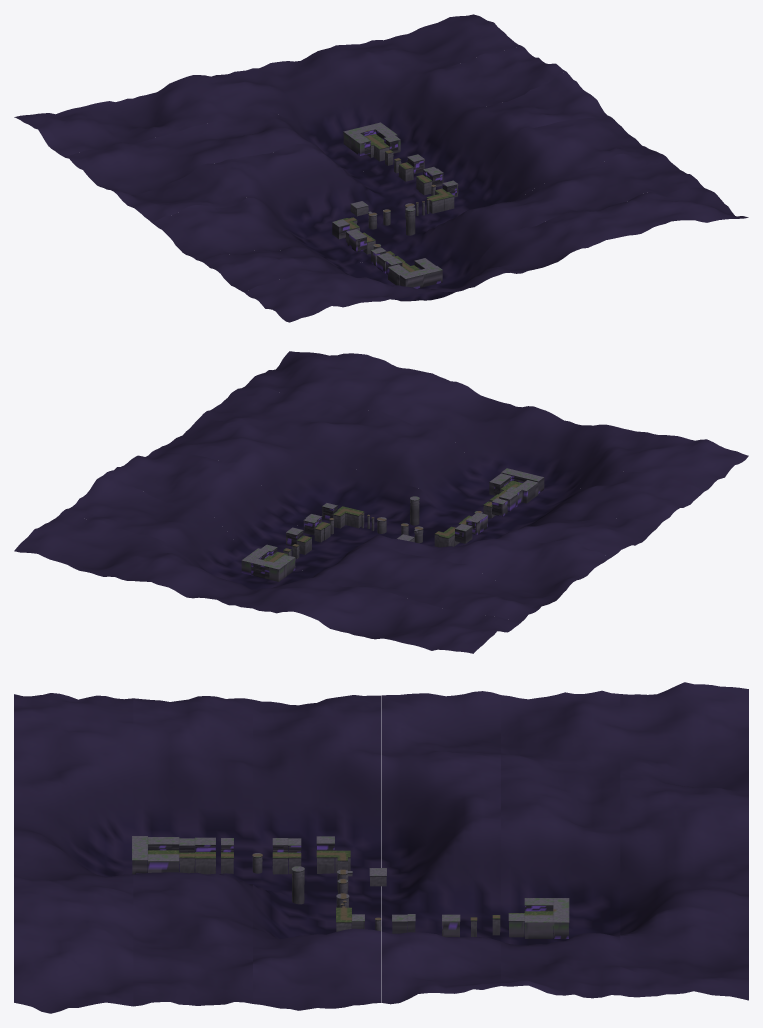
The model's file is ghost_lights_terrain.glb.
3 views of the same model, one above another, from view 1: azimuth 30°, elevation 25°; view 2: azimuth 150°, elevation 25°; view 3: azimuth 270°, elevation 25° (orthographic). The views are drawn at different scales.
Parts seen in each view (by area): view 1: backdrop_5, backdrop_3, backdrop_4, backdrop_2, backdrop_1, backdrop_0, terrain_A, terrain_J, terrain_G, terrain_E, terrain_I, terrain_H (+1 smaller); view 2: backdrop_0, backdrop_1, backdrop_5, backdrop_2, backdrop_3, backdrop_4, terrain_J, terrain_A, terrain_E, terrain_H, terrain_B, terrain_G (+1 smaller); view 3: backdrop_5, backdrop_0, backdrop_2, backdrop_3, backdrop_4, backdrop_1, terrain_J, terrain_B, terrain_A, terrain_E, terrain_D, terrain_G (+3 smaller).
Boxes of the visible parts, x1,y1,x2,y2 form: backdrop_5: [14, 14, 520, 155]; backdrop_3: [111, 71, 610, 228]; backdrop_4: [62, 46, 565, 194]; backdrop_2: [152, 117, 658, 266]; backdrop_1: [200, 153, 703, 292]; backdrop_0: [245, 187, 748, 322]; terrain_A: [388, 258, 442, 288]; terrain_J: [343, 122, 397, 157]; terrain_G: [418, 168, 458, 210]; terrain_E: [337, 201, 415, 235]; terrain_I: [373, 135, 401, 173]; terrain_H: [398, 154, 436, 189]; backdrop_0: [245, 351, 748, 497]; backdrop_1: [200, 386, 703, 530]; backdrop_5: [14, 512, 520, 653]; backdrop_2: [152, 417, 658, 557]; backdrop_3: [107, 452, 610, 595]; backdrop_4: [62, 472, 565, 622]; terrain_J: [241, 548, 295, 581]; terrain_A: [489, 468, 544, 503]; terrain_E: [377, 496, 454, 547]; terrain_H: [286, 518, 323, 554]; terrain_B: [483, 486, 522, 518]; terrain_G: [305, 503, 352, 540]; backdrop_5: [620, 682, 748, 1000]; backdrop_0: [14, 693, 133, 1013]; backdrop_2: [253, 695, 381, 1010]; backdrop_3: [381, 691, 500, 1004]; backdrop_4: [501, 690, 620, 998]; backdrop_1: [133, 696, 252, 1006]; terrain_J: [524, 898, 569, 938]; terrain_B: [179, 837, 233, 874]; terrain_A: [132, 836, 179, 874]; terrain_E: [291, 850, 386, 907]; terrain_D: [288, 836, 334, 873]; terrain_G: [336, 914, 407, 933].
Bounding box in the file's own units: 539 × 96.53 × 560.
